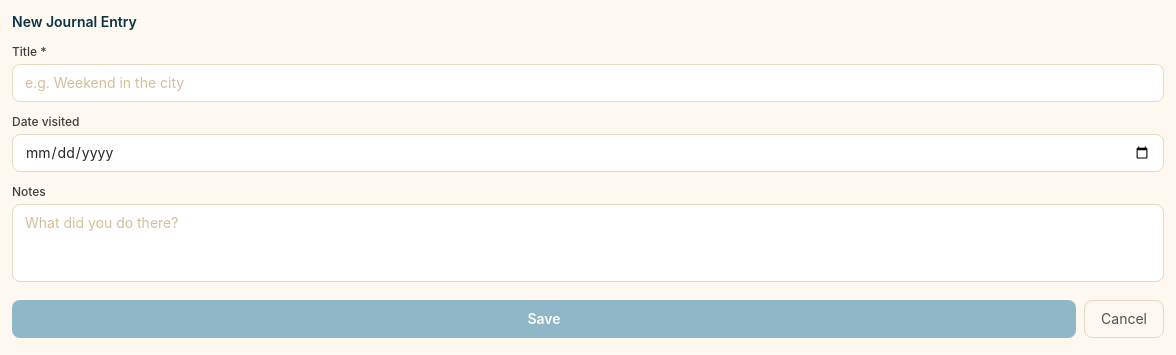
Test case: JournalForm › enables Save button once a title is typed
The width and height of the screenshot is (1176, 355).
In the field with placeholder "e.g. Weekend in the city": (588, 83) [12,64,1164,102], type "My Trip"
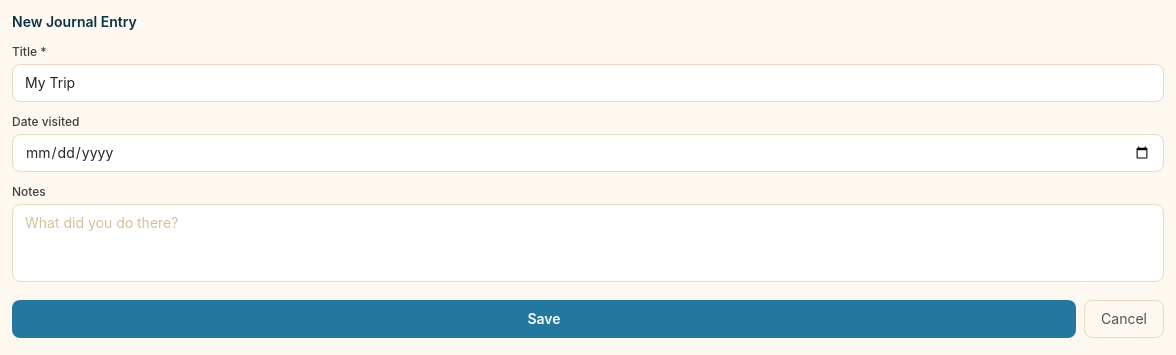
expect the button "Save" is enabled: met, box [12,300,1076,338]
